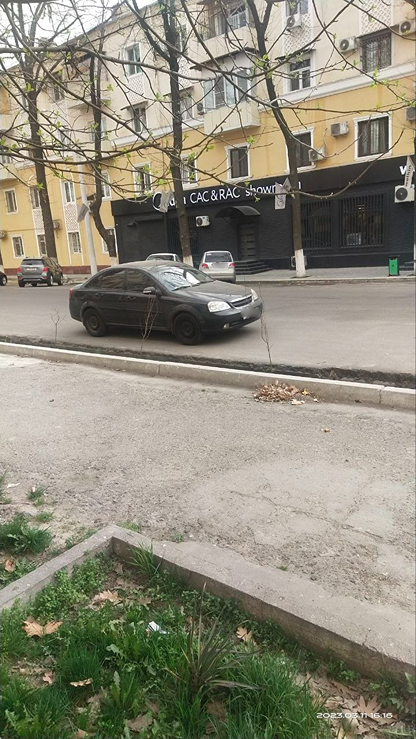car: (71, 256, 260, 352), (15, 251, 64, 282), (198, 246, 244, 276)
tree: (235, 0, 335, 264), (138, 0, 212, 241), (0, 0, 76, 214), (71, 0, 129, 225)
